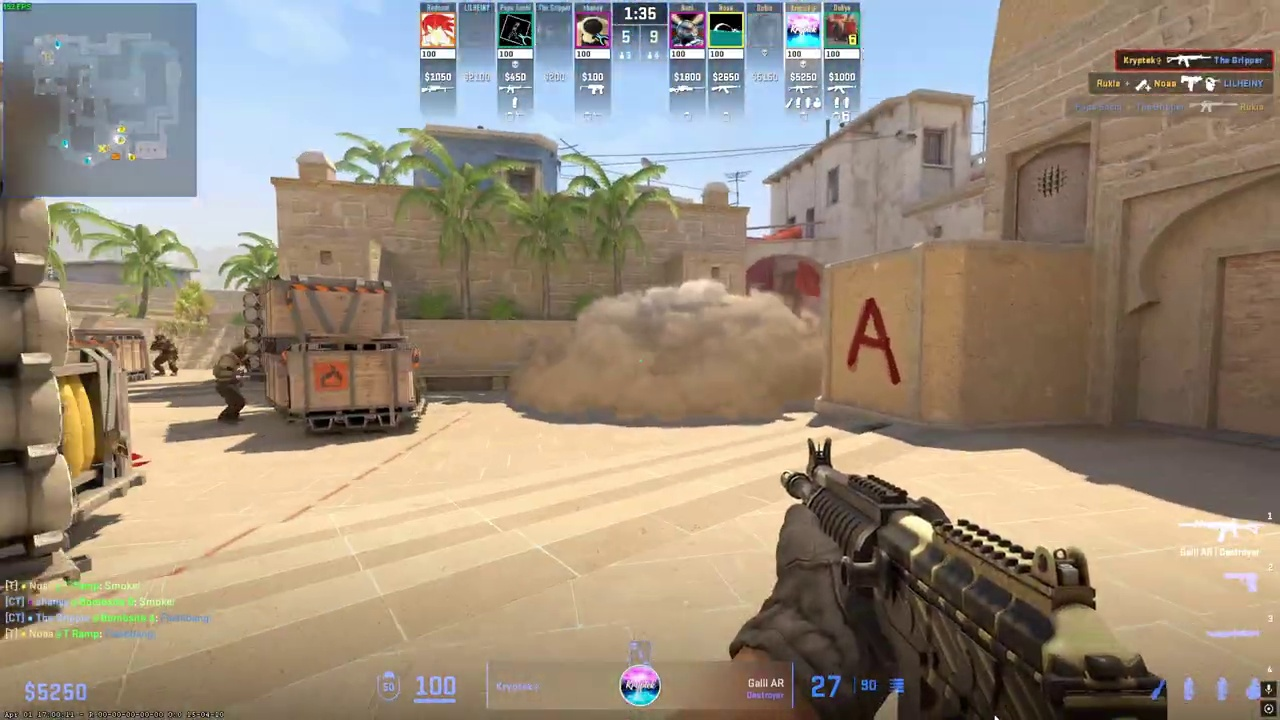CT: (150, 334, 176, 376)
Terrorist: (213, 345, 250, 424)
